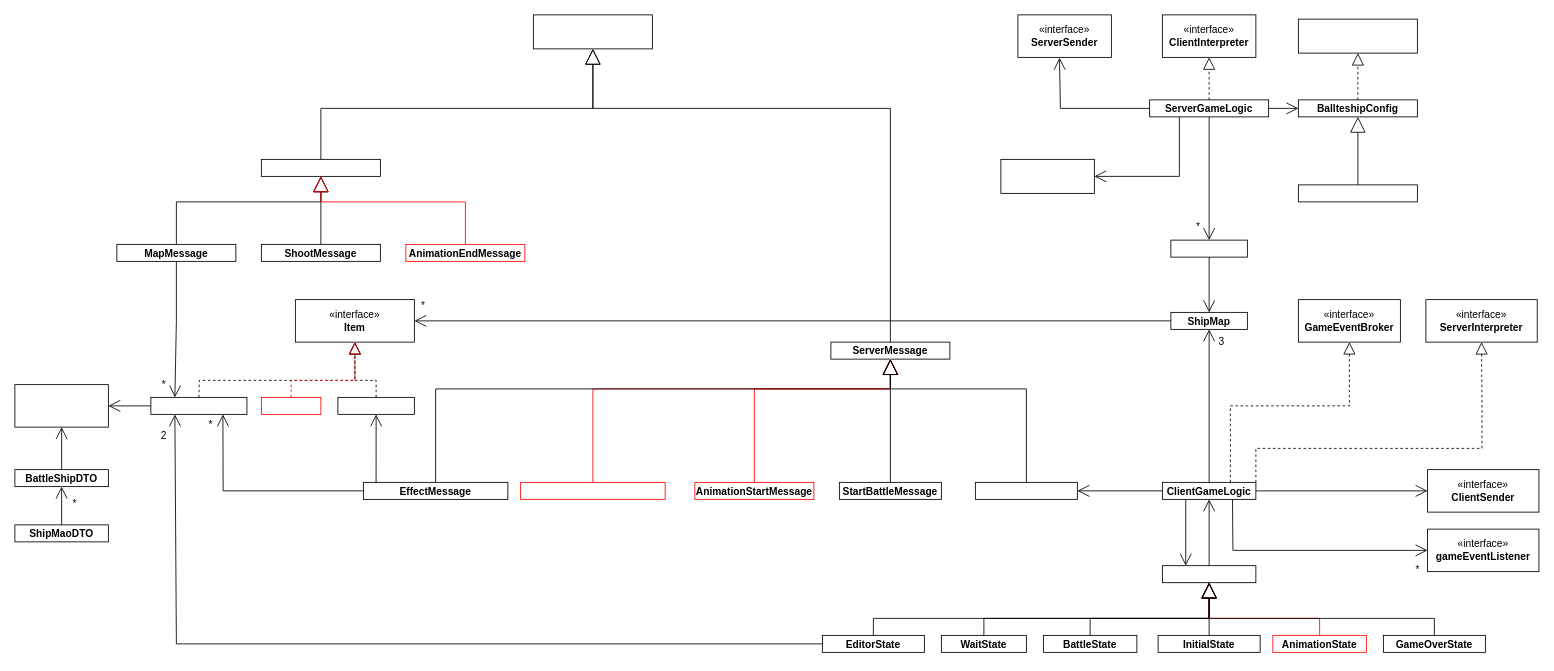
The diagram is 1554 pixels wide and 671 high, and some of its shapes have lost their labels. Each missing label, with the box of its shape:
Abstract Message (from JME): (533, 14, 652, 49)
BackToBattleStateMessage: (520, 482, 665, 499)
BallteshipClientConfig: (1298, 184, 1417, 202)
BattleShip: (150, 397, 247, 414)
ClientMessage: (261, 159, 380, 176)
ClientState: (1162, 565, 1256, 583)
Config (from Common): (1298, 18, 1417, 53)
GameDetails: (975, 482, 1077, 499)
Player: (1170, 239, 1247, 257)
Shell: (261, 397, 321, 414)
Shot: (337, 397, 414, 414)
«enum» Rotation: (14, 384, 108, 427)
«enum» ServerState: (1000, 159, 1094, 193)
